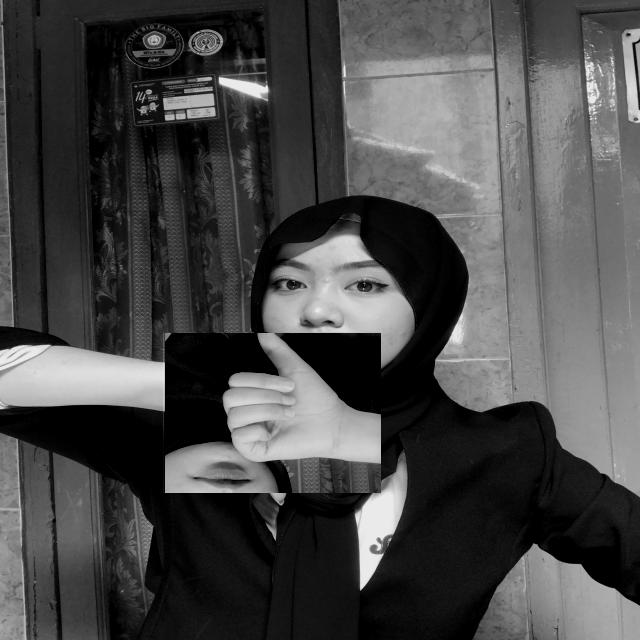sedih: (162, 332, 380, 493)
